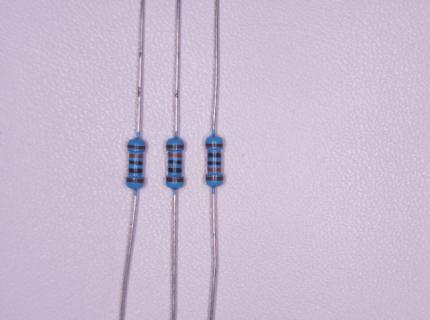Black band: (168, 167, 182, 173), (129, 168, 143, 173), (207, 161, 221, 166), (129, 160, 143, 165), (169, 160, 182, 164), (208, 153, 221, 157)
Brown band: (127, 144, 146, 149), (126, 178, 144, 183), (166, 177, 184, 182), (206, 176, 224, 181), (166, 145, 184, 149), (205, 143, 223, 147)
Orange band: (168, 152, 183, 157), (129, 153, 143, 158), (207, 168, 221, 172)
